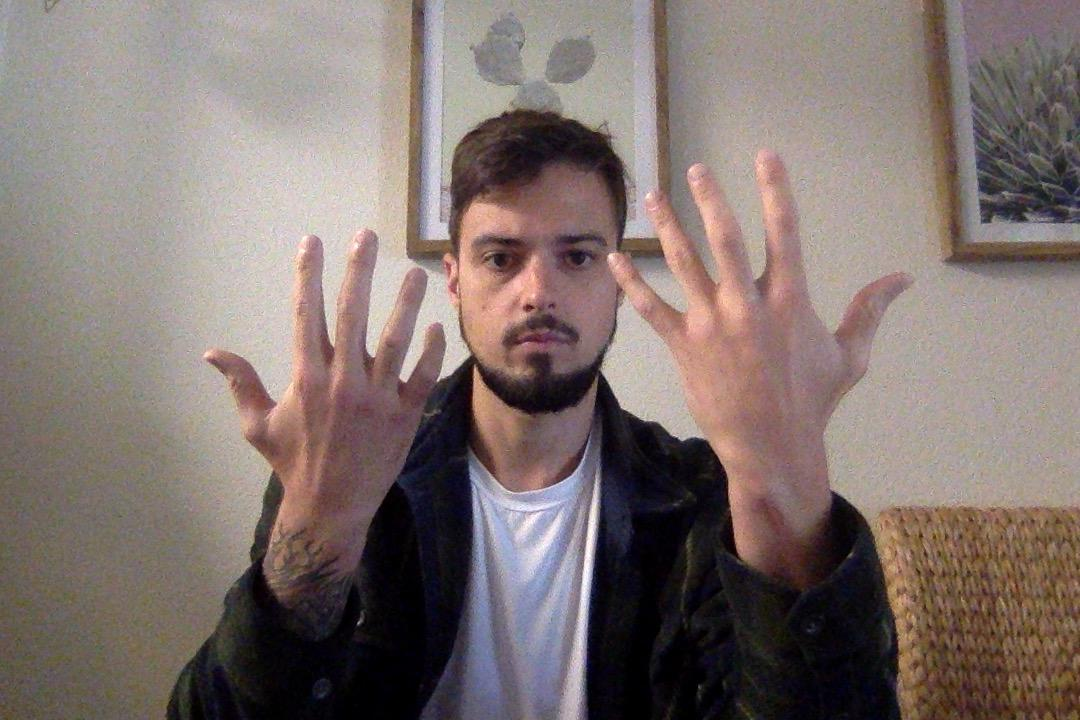Fingers-Spread: (607, 150, 913, 473), (191, 212, 464, 531)
